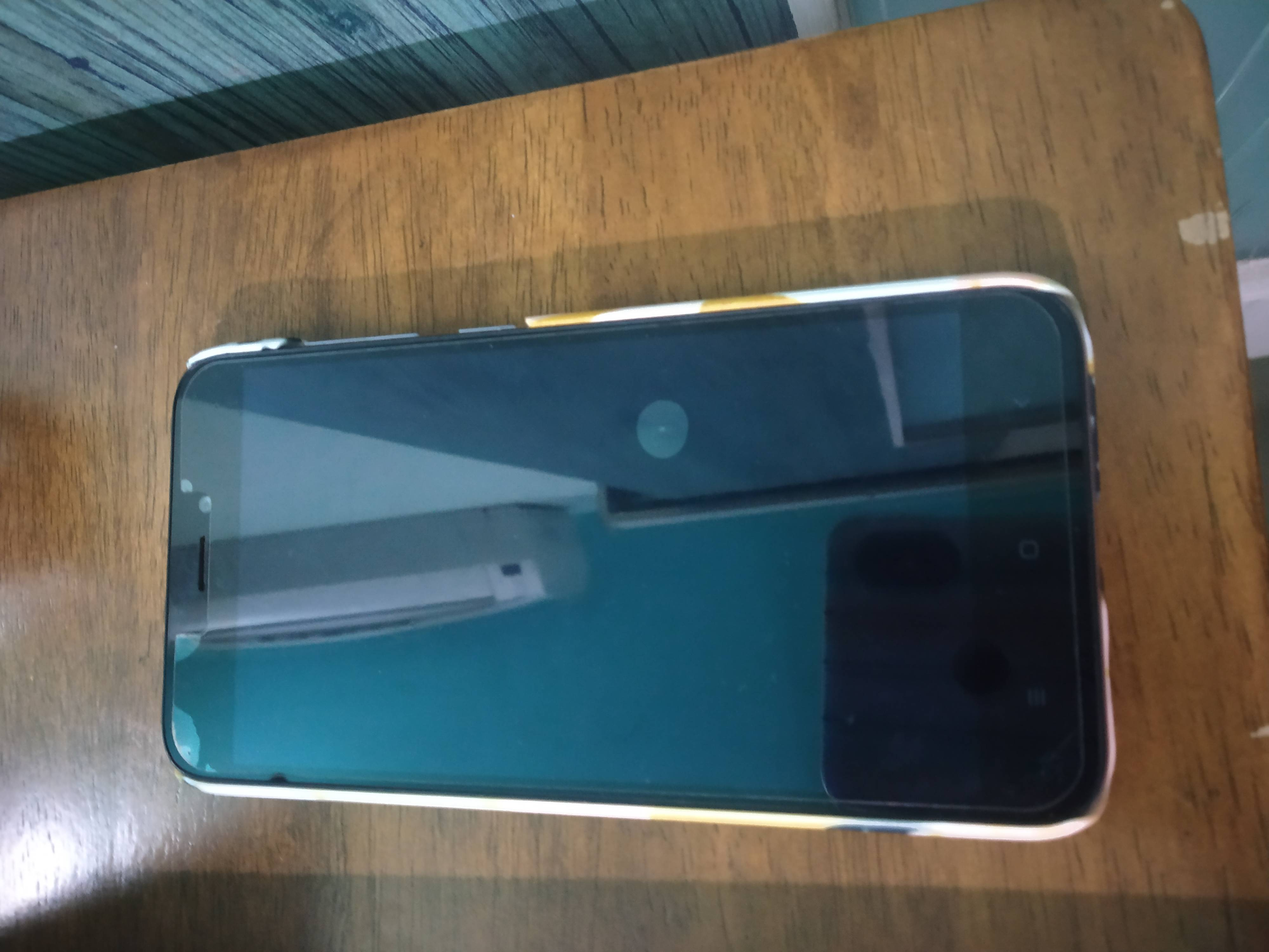Electronics: (152, 252, 1133, 852)
